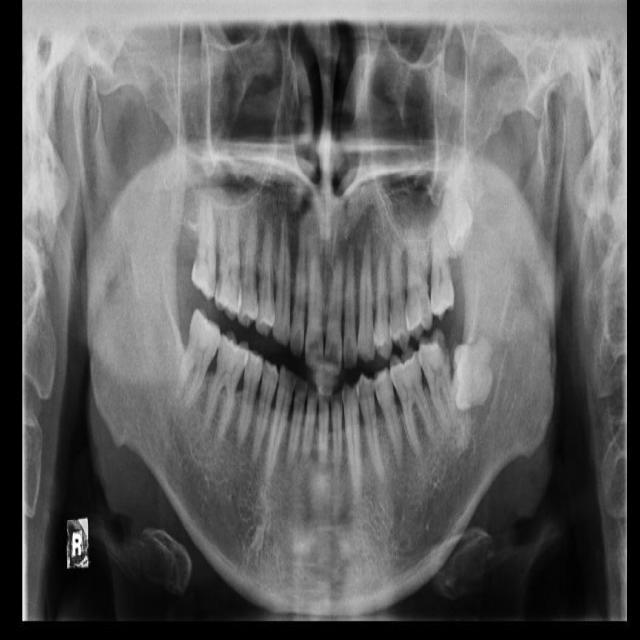52: (436, 335, 453, 369), (217, 269, 226, 297)
73: (614, 604, 626, 624)
BioHorizons Implant: (429, 201, 455, 320)
BioLife Implant: (431, 173, 482, 255)
Biomet 3i Implant: (451, 336, 494, 411)
Blue Sky Bio Implant: (415, 327, 461, 432)
Caries: (191, 195, 220, 300)
Implant: (168, 305, 228, 416)
